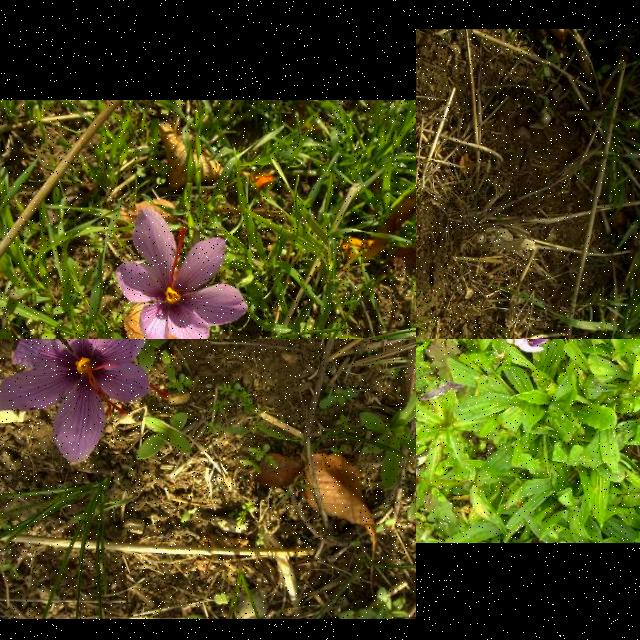flower: (0, 339, 168, 465), (115, 209, 248, 339), (514, 339, 554, 353)
